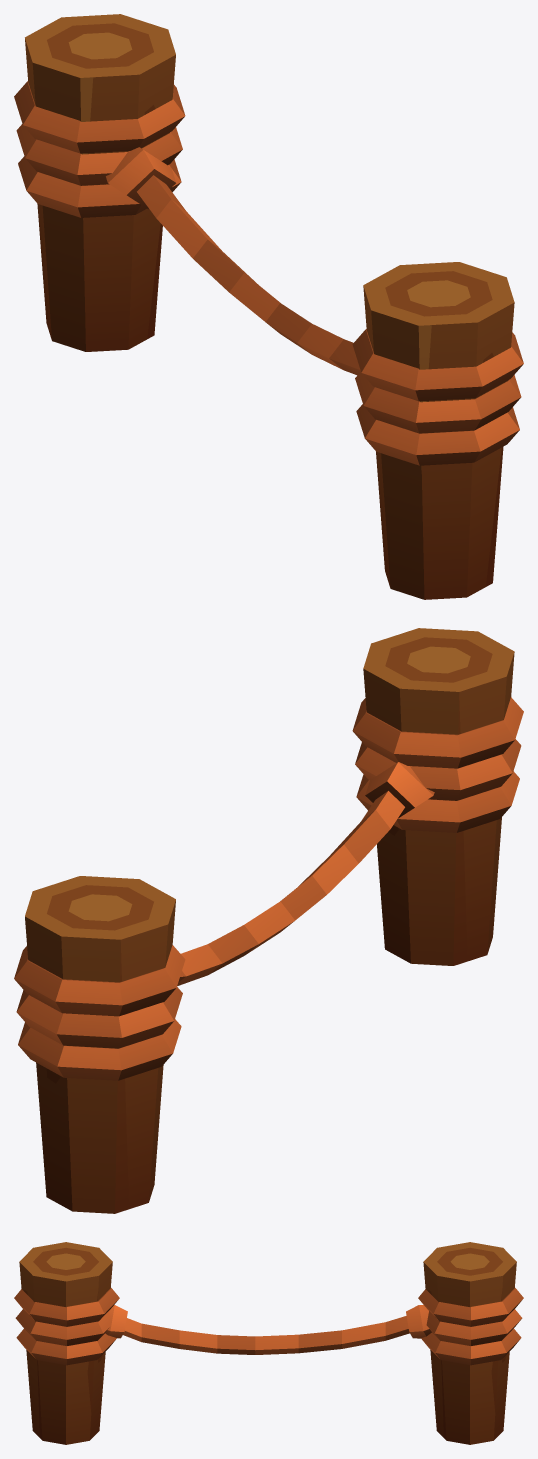
The model's file is fence_rope2.glb.
3 renders of one model, top to bottom at view 1: azimuth 30°, elevation 25°; view 2: azimuth 150°, elevation 25°; view 3: azimuth 270°, elevation 25°, orthographic. The views are drawn at different scales.
Parts seen in each view (by area): view 1: fence_rope2; view 2: fence_rope2; view 3: fence_rope2.
Boxes of the visible parts, <box> form: fence_rope2: <box>14,14,523,599</box>; fence_rope2: <box>14,628,523,1213</box>; fence_rope2: <box>14,1242,523,1444</box>.
Bounding box in the file's own units: 0.2472 × 0.4352 × 1.19.
1 material, 1 textured.
